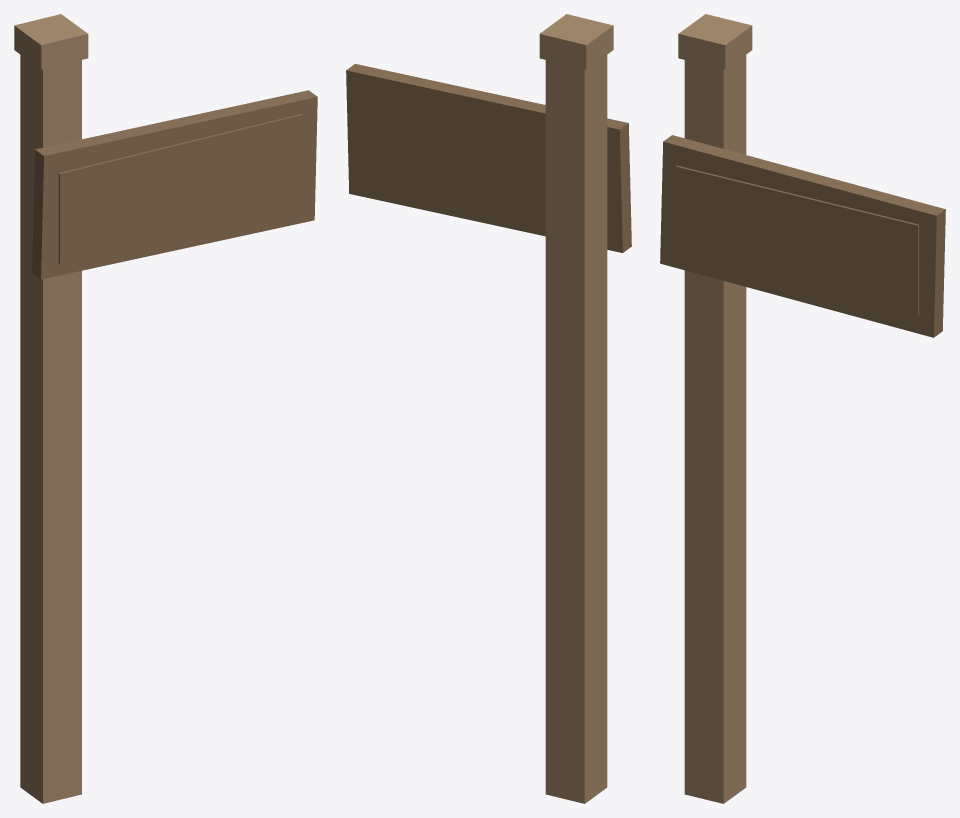
File: prop-signpost-wood.fbx
3 renders of one model, left to right at view 1: azimuth 30°, elevation 25°; view 2: azimuth 150°, elevation 25°; view 3: azimuth 330°, elevation 25°, orthographic.
Visible parts, largest first — view 1: prop-signpost-wood; view 2: prop-signpost-wood; view 3: prop-signpost-wood.
Boxes of the visible parts, left/top/right/bottom form: prop-signpost-wood: left=14, top=14, right=317, bottom=803; prop-signpost-wood: left=346, top=14, right=631, bottom=803; prop-signpost-wood: left=660, top=14, right=945, bottom=803.
Size of the model in its own units: 0.7076 by 1.86 by 0.168.
